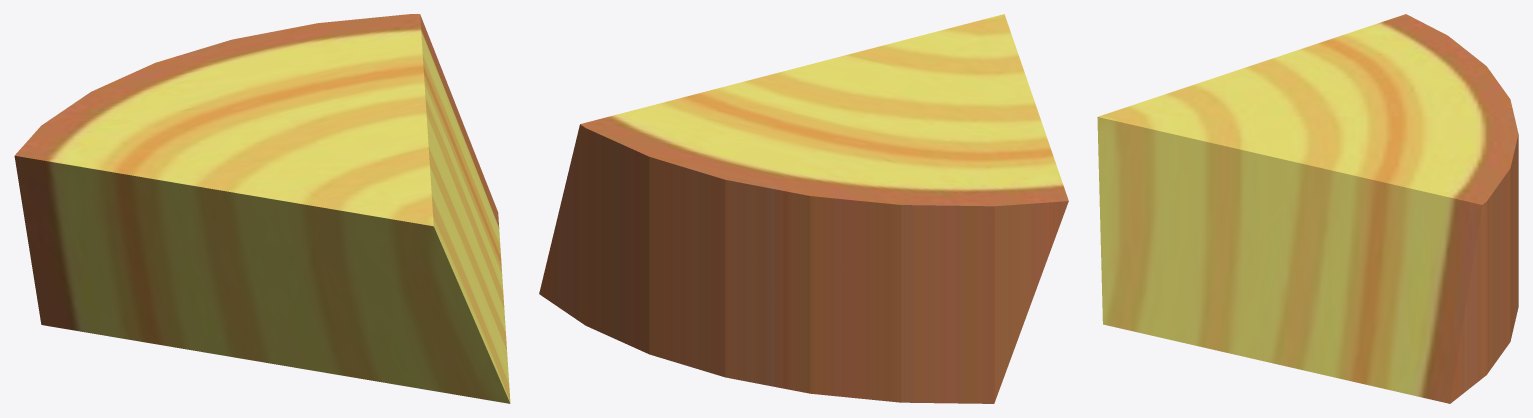
File: Candy3.fbx
3 renders of one model, left to right at view 1: azimuth 30°, elevation 25°; view 2: azimuth 150°, elevation 25°; view 3: azimuth 270°, elevation 25°, orthographic. The views are drawn at different scales.
Parts seen in each view (by area): view 1: Cylinder.003; view 2: Cylinder.003; view 3: Cylinder.003.
Boxes of the visible parts, left/top/right/bottom form: Cylinder.003: left=14, top=14, right=510, bottom=403; Cylinder.003: left=539, top=14, right=1068, bottom=403; Cylinder.003: left=1097, top=14, right=1518, bottom=403.
Bounding box in the file's own units: 122 × 45.81 × 101.
